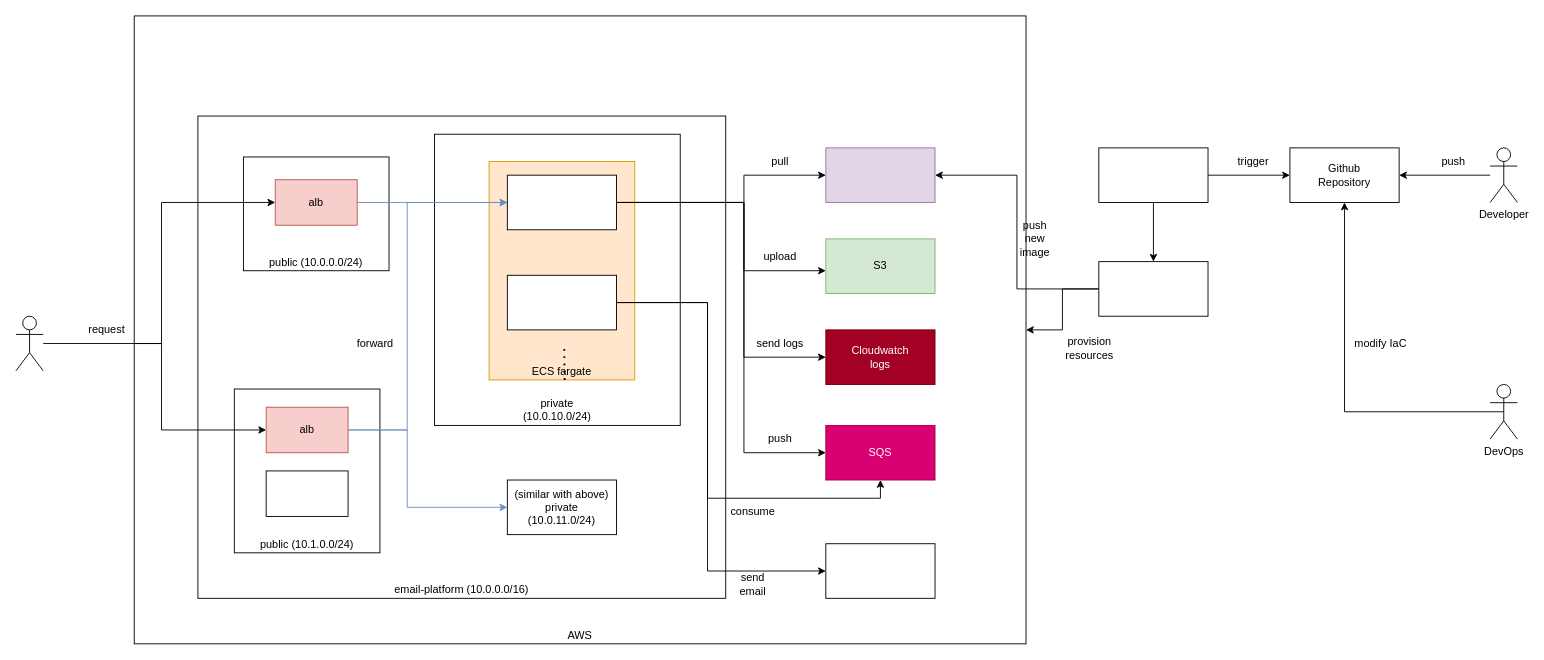
Image size: 1544x660. Some labels were removed from this diagram. Each missing label, with the centre of its shape:
"CI pipeline" goes at [1153,288].
"ECR" goes at [880,174].
"Github Action" goes at [1153,174].
"nat gateway (EIP attached)" goes at [306,493].
"sample-api" goes at [561,202].
"sample-worker" goes at [561,302].
"SES" goes at [880,570].
"User" goes at [29,343].
